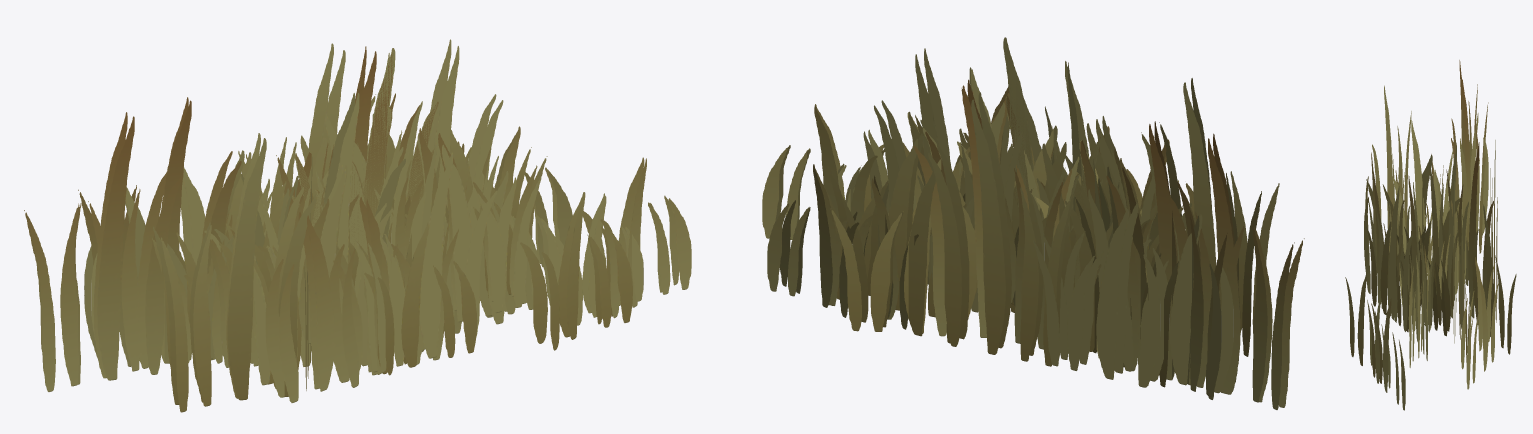
Rendered from EN_grass.gltf.
The picture shows the model from 3 angles, left to right: view 1: azimuth 30°, elevation 25°; view 2: azimuth 150°, elevation 25°; view 3: azimuth 270°, elevation 25°; orthographic projection. The views are drawn at different scales.
Visible parts, largest first — view 1: EN_Grass_C2_Cluster_mid_angle, EN_Grass_C1_Cluster_Big, EN_Grass_C2_Cluster_mid, EN_Grass_C3_Cluster_mid_angle, EN_Grass_C3_Cluster_mid, EN_Grass_C2_Cluster_Big, EN_Grass_C2_Cluster_Big_angle, EN_Grass_C3_Cluster_Big, EN_Grass_C1_Cluster_Big_angle, EN_Grass_C1_Cluster_mid_angle, EN_Grass_C1_Cluster_small, EN_Grass_C3_Cluster_Big_angle (+10 smaller); view 2: EN_Grass_C3_Cluster_Big_angle, EN_Grass_C2_Cluster_Big_angle, EN_Grass_C1_Cluster_Big_angle, EN_Grass_C2_Cluster_Big, EN_Grass_C3_Cluster_mid, EN_Grass_C2_Cluster_mid, EN_Grass_C1_Cluster_Big, EN_Grass_C3_Cluster_mid_angle, EN_Grass_C3_Cluster_Big, EN_Grass_C2_Cluster_mid_angle, EN_Grass_C1_Cluster_mid, EN_Grass_C1_Cluster_mid_angle (+9 smaller); view 3: EN_Grass_C2_Cluster_Big_angle, EN_Grass_C3_Cluster_mid_angle, EN_Grass_C1_Cluster_Big_angle, EN_Grass_C3_Cluster_Big_angle, EN_Grass_C2_Cluster_mid_angle, EN_Grass_C1_Cluster_mid_angle, EN_Grass_C3_Cluster_small_angle, EN_Grass_C2_Cluster_small_angle, EN_Grass_C1_Cluster_small_angle.
Part boxes in pixels (x1=…): EN_Grass_C2_Cluster_mid_angle: x1=24, y1=116, x2=679, y2=402; EN_Grass_C1_Cluster_Big: x1=183, y1=46, x2=561, y2=372; EN_Grass_C2_Cluster_mid: x1=27, y1=112, x2=691, y2=397; EN_Grass_C3_Cluster_mid_angle: x1=153, y1=135, x2=612, y2=404; EN_Grass_C3_Cluster_mid: x1=161, y1=113, x2=632, y2=412; EN_Grass_C2_Cluster_Big: x1=88, y1=51, x2=559, y2=382; EN_Grass_C2_Cluster_Big_angle: x1=78, y1=46, x2=572, y2=387; EN_Grass_C3_Cluster_Big: x1=152, y1=50, x2=547, y2=384; EN_Grass_C1_Cluster_Big_angle: x1=181, y1=39, x2=550, y2=373; EN_Grass_C1_Cluster_mid_angle: x1=84, y1=53, x2=629, y2=385; EN_Grass_C1_Cluster_small: x1=204, y1=114, x2=541, y2=322; EN_Grass_C3_Cluster_Big_angle: x1=179, y1=43, x2=531, y2=390; EN_Grass_C3_Cluster_Big_angle: x1=824, y1=99, x2=1178, y2=387; EN_Grass_C2_Cluster_Big_angle: x1=780, y1=85, x2=1227, y2=399; EN_Grass_C1_Cluster_Big_angle: x1=874, y1=54, x2=1160, y2=387; EN_Grass_C2_Cluster_Big: x1=767, y1=79, x2=1245, y2=393; EN_Grass_C3_Cluster_mid: x1=841, y1=82, x2=1279, y2=343; EN_Grass_C2_Cluster_mid: x1=775, y1=105, x2=1304, y2=407; EN_Grass_C1_Cluster_Big: x1=881, y1=48, x2=1169, y2=381; EN_Grass_C3_Cluster_mid_angle: x1=830, y1=78, x2=1261, y2=356; EN_Grass_C3_Cluster_Big: x1=826, y1=92, x2=1200, y2=355; EN_Grass_C2_Cluster_mid_angle: x1=762, y1=104, x2=1294, y2=409; EN_Grass_C1_Cluster_mid: x1=838, y1=67, x2=1233, y2=393; EN_Grass_C1_Cluster_mid_angle: x1=837, y1=69, x2=1221, y2=396; EN_Grass_C2_Cluster_Big_angle: x1=1364, y1=79, x2=1498, y2=389; EN_Grass_C3_Cluster_mid_angle: x1=1345, y1=85, x2=1516, y2=383; EN_Grass_C1_Cluster_Big_angle: x1=1368, y1=119, x2=1457, y2=367; EN_Grass_C3_Cluster_Big_angle: x1=1366, y1=138, x2=1497, y2=362; EN_Grass_C2_Cluster_mid_angle: x1=1365, y1=60, x2=1495, y2=410; EN_Grass_C1_Cluster_mid_angle: x1=1367, y1=113, x2=1488, y2=388; EN_Grass_C3_Cluster_small_angle: x1=1404, y1=159, x2=1458, y2=331; EN_Grass_C2_Cluster_small_angle: x1=1389, y1=170, x2=1470, y2=325; EN_Grass_C1_Cluster_small_angle: x1=1406, y1=170, x2=1451, y2=332.
Size of the model in its own units: 1.12 by 0.5023 by 0.3886.
Materials: 1 (1 with a texture image).
